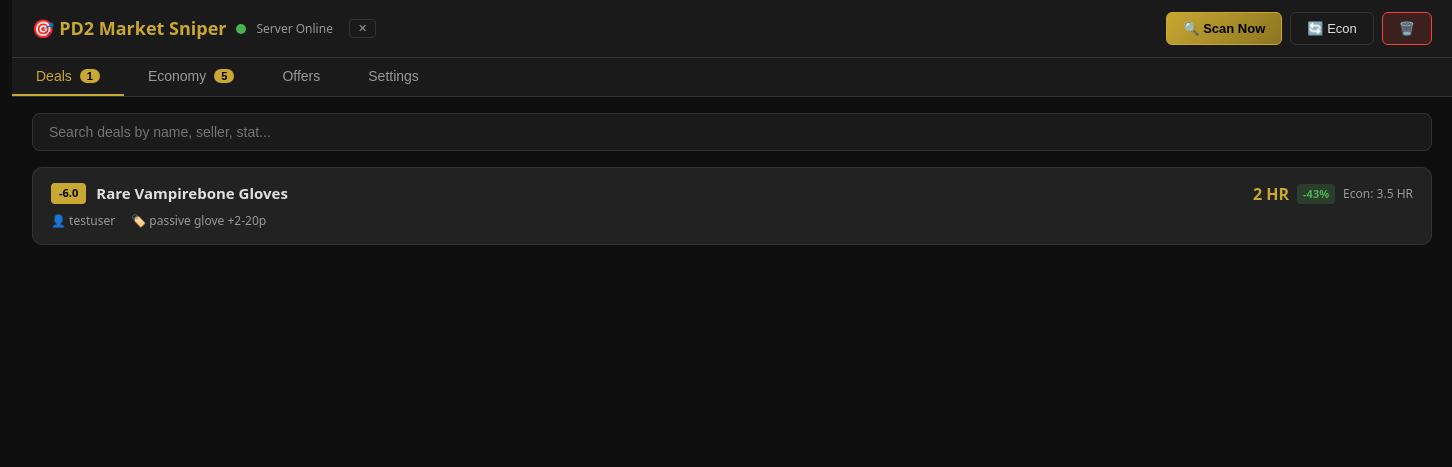
it: App › expands deal card on click
Click the text "Rare Vampirebone Gloves": (192, 193) [96,182,288,204]
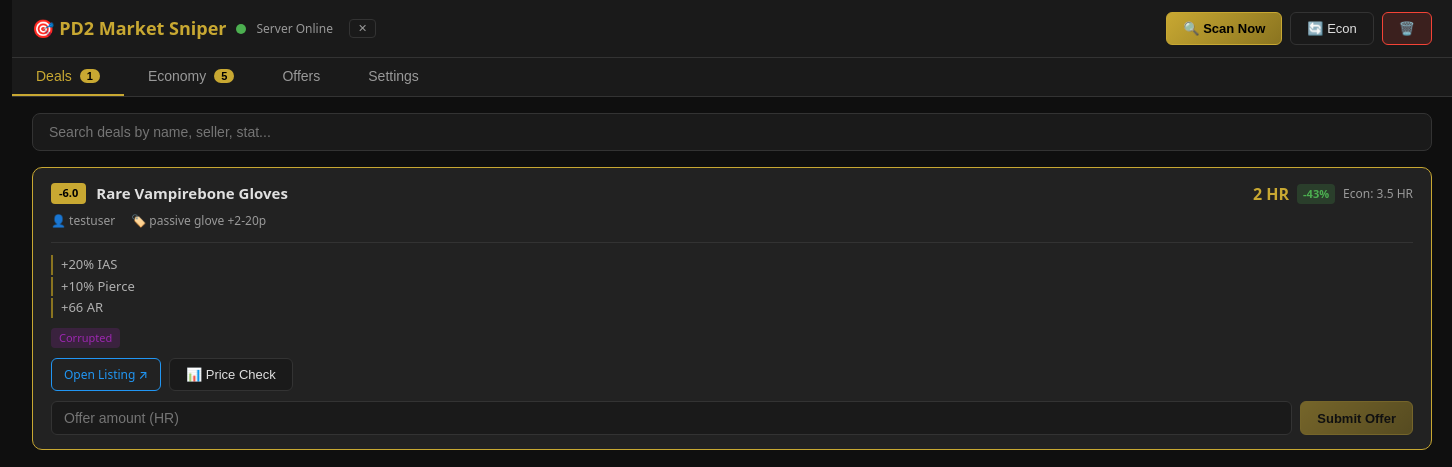
Now the link "Open Listing ↗" is shown, box [51,358,161,391]
Now the button "📊 Price Check" is shown, box [169,358,293,391]
